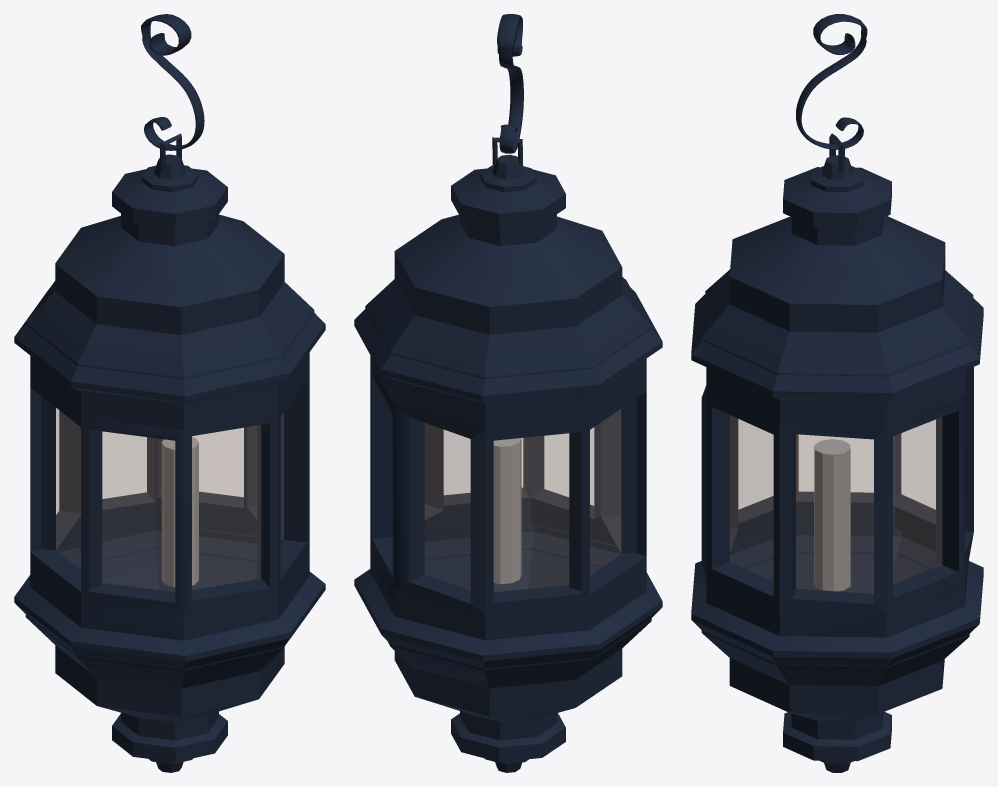
Rendered from lantern.fbx.
3 renders of one model, left to right at view 1: azimuth 30°, elevation 25°; view 2: azimuth 150°, elevation 25°; view 3: azimuth 270°, elevation 25°, orthographic.
Visible parts, largest first — view 1: lantern_body, lantern_candle, lantern_handle_poly; view 2: lantern_body, lantern_candle, lantern_handle_poly; view 3: lantern_body, lantern_candle, lantern_handle_poly.
Part boxes in pixels (x1=…): lantern_body: x1=14, y1=154, x2=325, y2=772; lantern_candle: x1=161, y1=437, x2=198, y2=587; lantern_handle_poly: x1=141, y1=14, x2=204, y2=150; lantern_body: x1=354, y1=154, x2=662, y2=772; lantern_candle: x1=493, y1=438, x2=521, y2=583; lantern_handle_poly: x1=497, y1=14, x2=523, y2=153; lantern_body: x1=691, y1=155, x2=983, y2=772; lantern_candle: x1=814, y1=439, x2=850, y2=591; lantern_handle_poly: x1=796, y1=14, x2=867, y2=149.
Size of the model in its own units: 7.05 by 19.97 by 7.05.
